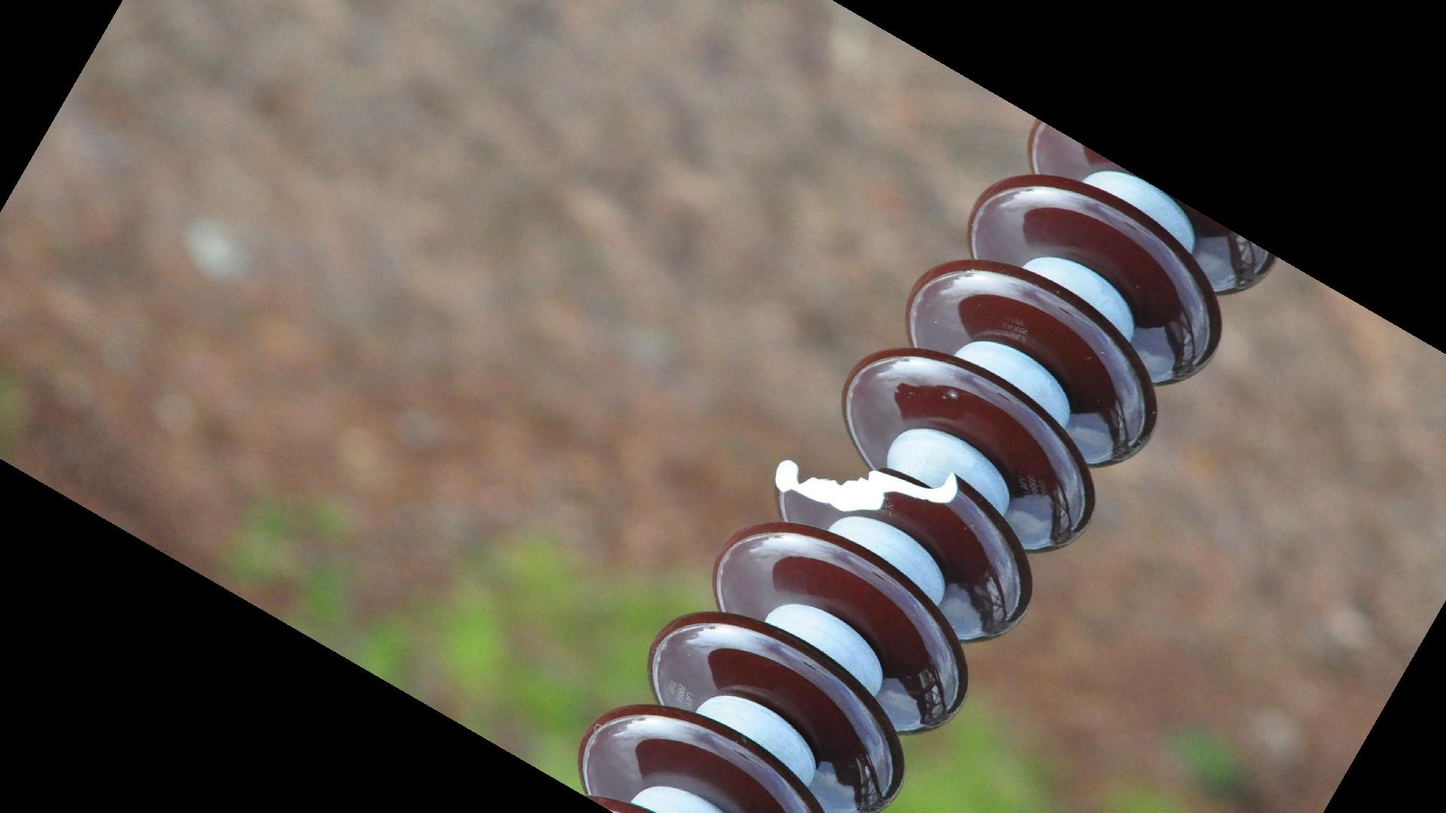insulator: (572, 104, 1286, 813)
insulator_breakage: (761, 449, 971, 529)
